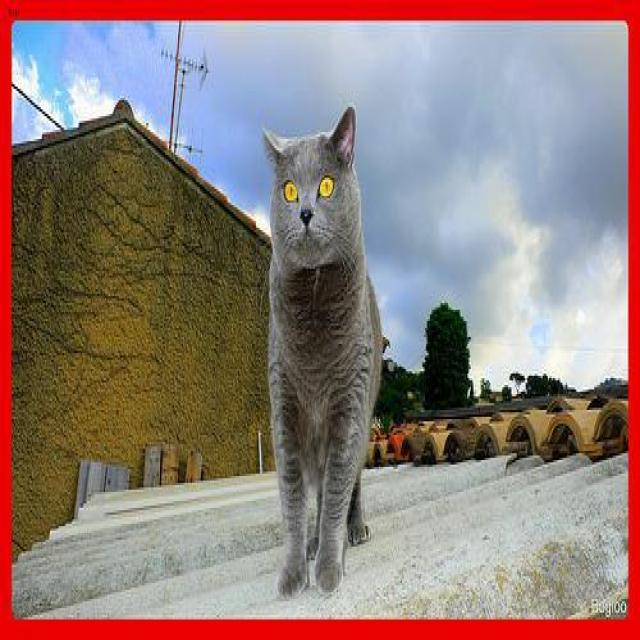cat: (261, 104, 383, 596)
